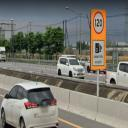speed_limit_120: (92, 10, 106, 38)
